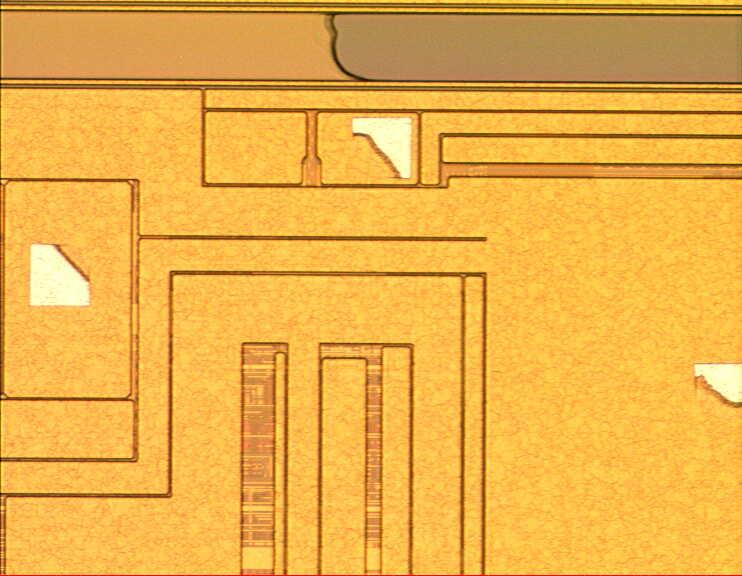COATING BAD: (2, 10, 742, 576)
